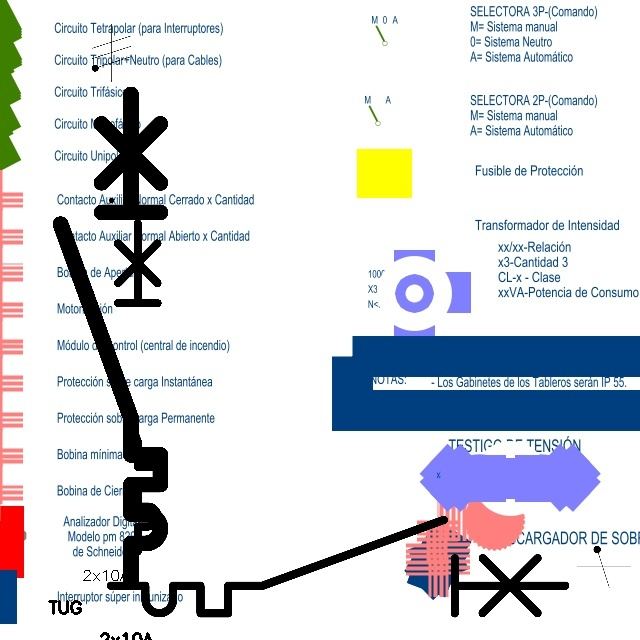interruptor_termomagnetico: (48, 81, 173, 593), (99, 508, 577, 625), (82, 215, 166, 560)
